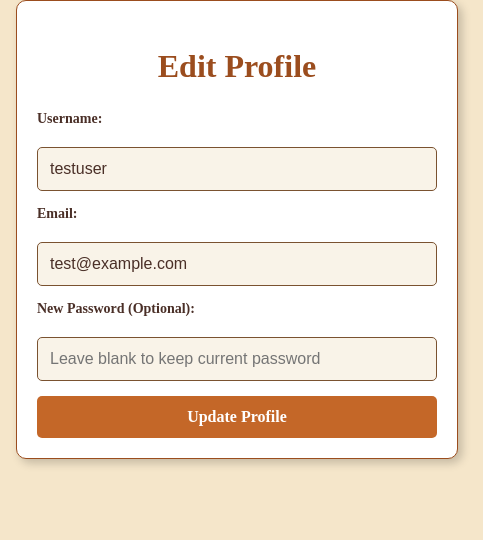
it: EditProfile Component › handles API error correctly
Click the button "Update Profile": (237, 417) [37,396,437,438]
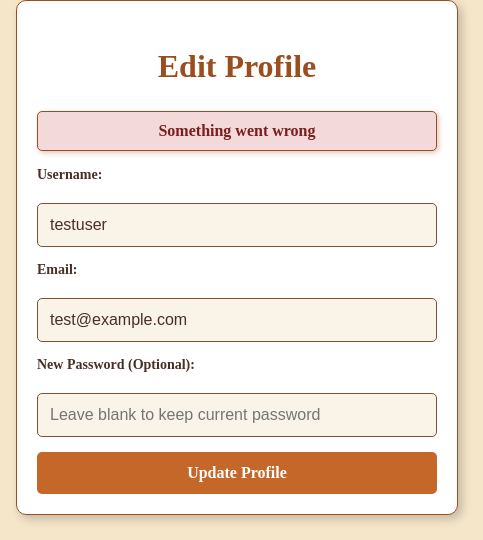
Now the text "Something went wrong" is shown, box [37,111,437,151]
